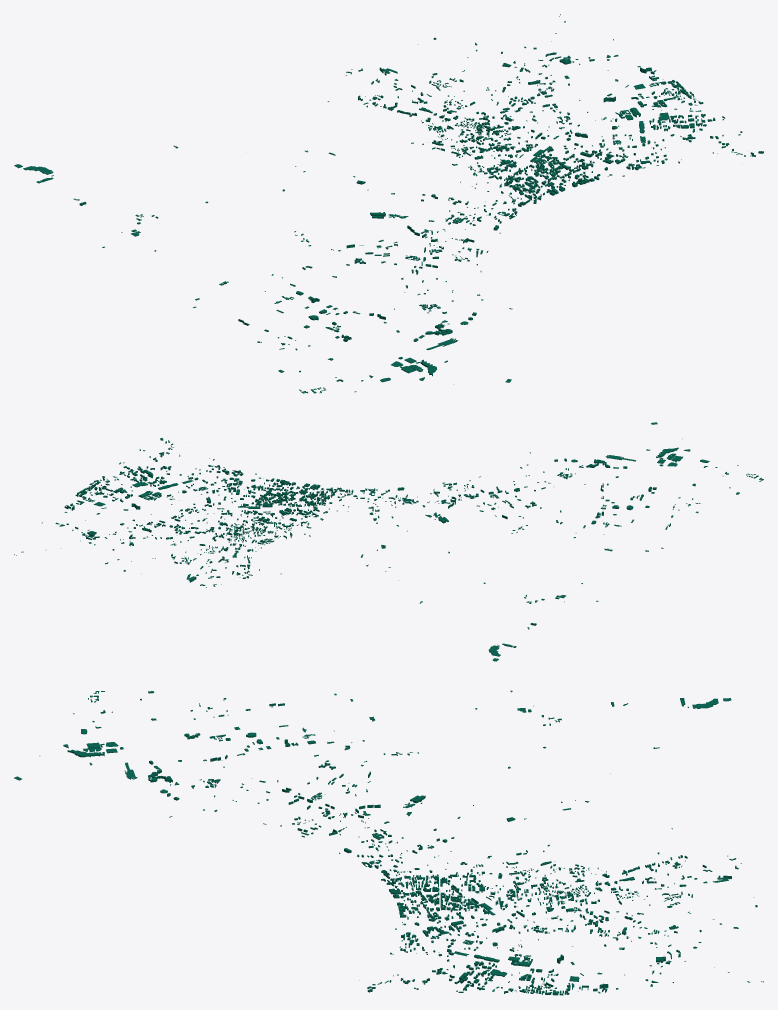
The model's file is nice_city_buildings.glb.
3 views of the same model, one above another, from view 1: azimuth 30°, elevation 25°; view 2: azimuth 150°, elevation 25°; view 3: azimuth 270°, elevation 25° (orthographic). The views are drawn at different scales.
Size of the model in its own units: 8980 by 257 by 9326.
